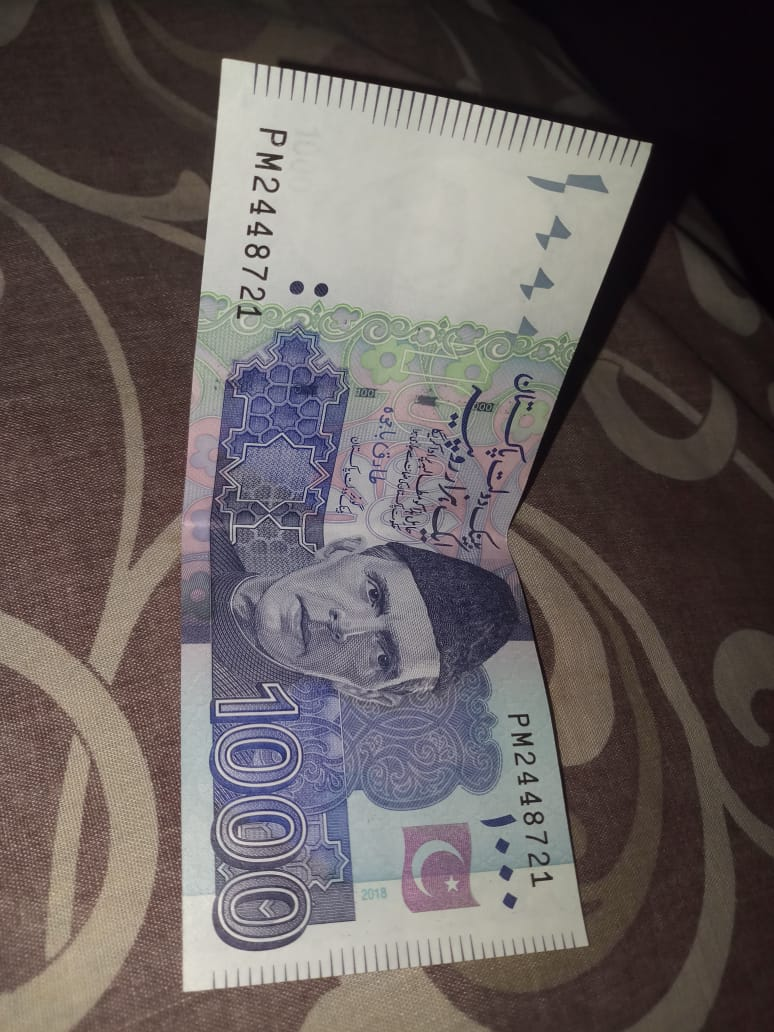1000 rupee: (174, 37, 661, 997)
